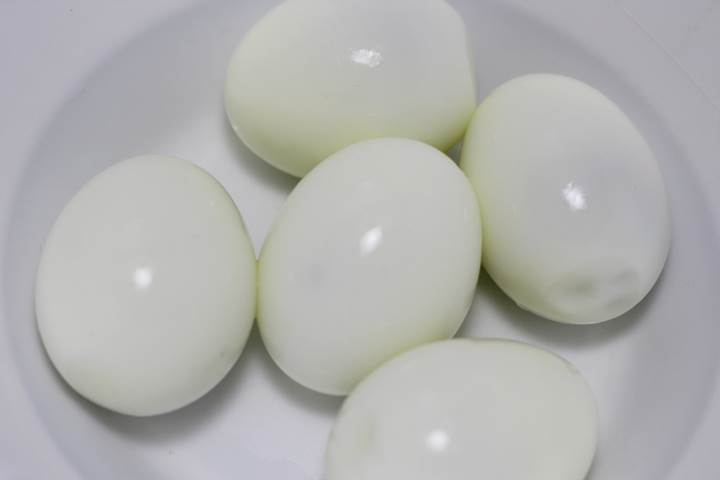egg: (24, 150, 264, 429), (246, 129, 486, 408), (442, 61, 682, 340), (199, 1, 471, 163), (328, 318, 600, 480)
